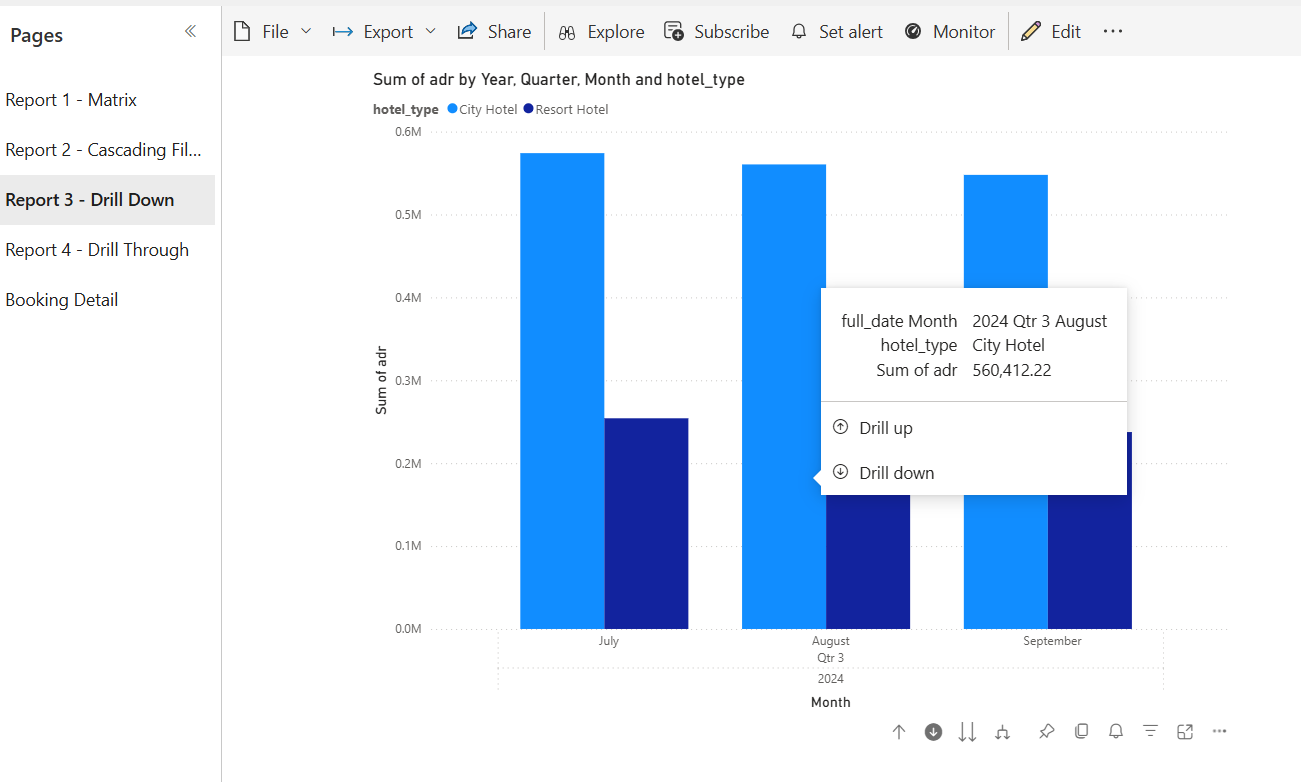

The page's visual inventory and layout, read from the dashboard file:
{"tool":"powerbi","page":{"name":"Report 3 - Drill Down","canvas":[1280,720],"ordinal":2},"visuals":[{"type":"clusteredColumnChart","fields":{"Category":["dim_date.full_date.Variation.Date Hierarchy.Year","dim_date.full_date.Variation.Date Hierarchy.Quarter","dim_date.full_date.Variation.Date Hierarchy.Month","dim_date.full_date.Variation.Date Hierarchy.Day"],"Y":["Sum(fact_bookings.adr)"],"Series":["dim_hotel.hotel_type"]},"box":[10,0,867.1,645.7],"z":0}]}

Visuals, with their boxes on the page's 1280x720 design canvas (x1, y1, x2, y2). These are canvas units, not pixel positions in the 1301x782 screenshot, which may show the page scaled, cropped or inside an application window:
clusteredColumnChart - dim_date.full_date.Variation.Date Hierarchy.Year x dim_date.full_date.Variation.Date Hierarchy.Quarter: [10, 0, 877, 646]
